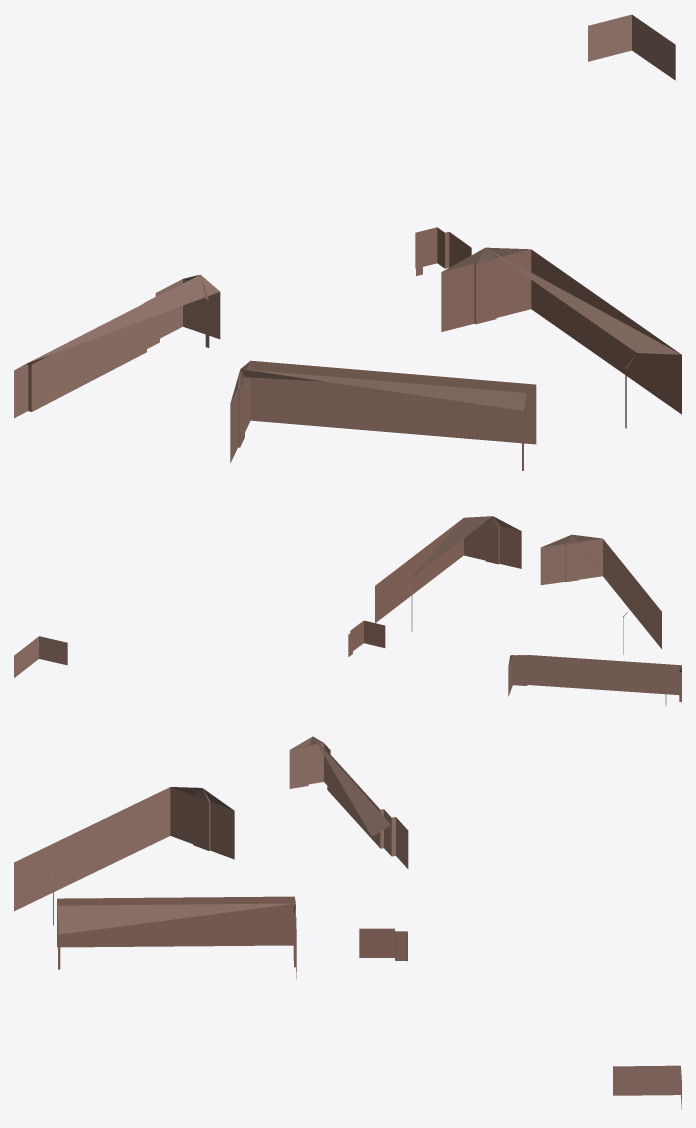
The model's file is c_1631_17831_buildings_residential.glb.
3 renders of one model, top to bottom at view 1: azimuth 30°, elevation 25°; view 2: azimuth 150°, elevation 25°; view 3: azimuth 270°, elevation 25°, orthographic. The views are drawn at different scales.
Parts seen in each view (by area): view 1: geometry_0; view 2: geometry_0; view 3: geometry_0.
Part boxes in pixels (box(x1,y1,x2,y2)): geometry_0: box(14, 14, 681, 470); geometry_0: box(14, 516, 681, 706); geometry_0: box(14, 736, 681, 1109).
Size of the model in its own units: 231 by 20.85 by 196.
